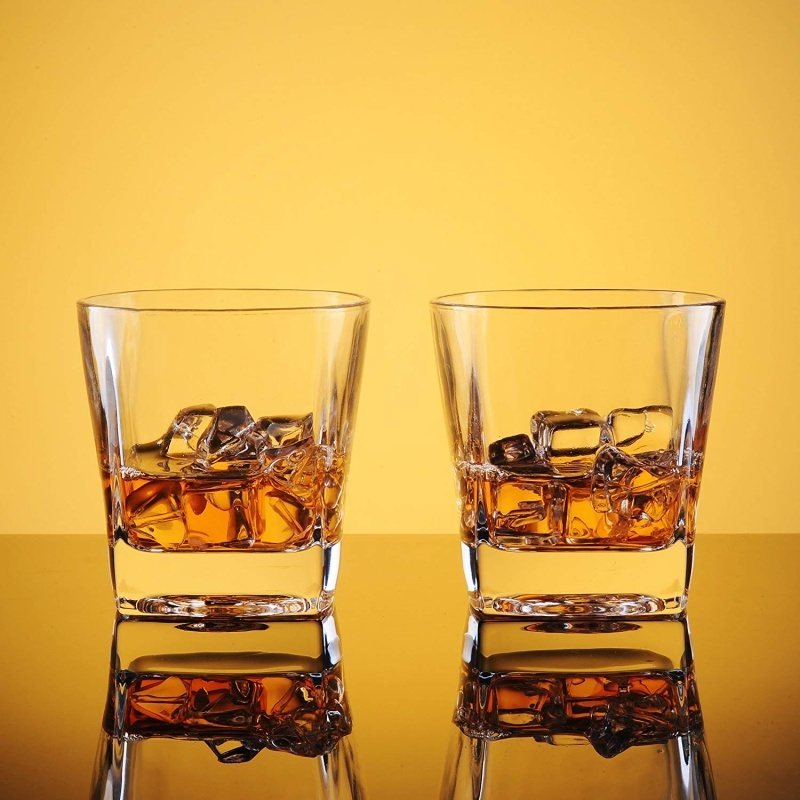whiskey: (69, 285, 367, 614), (437, 293, 715, 605)
